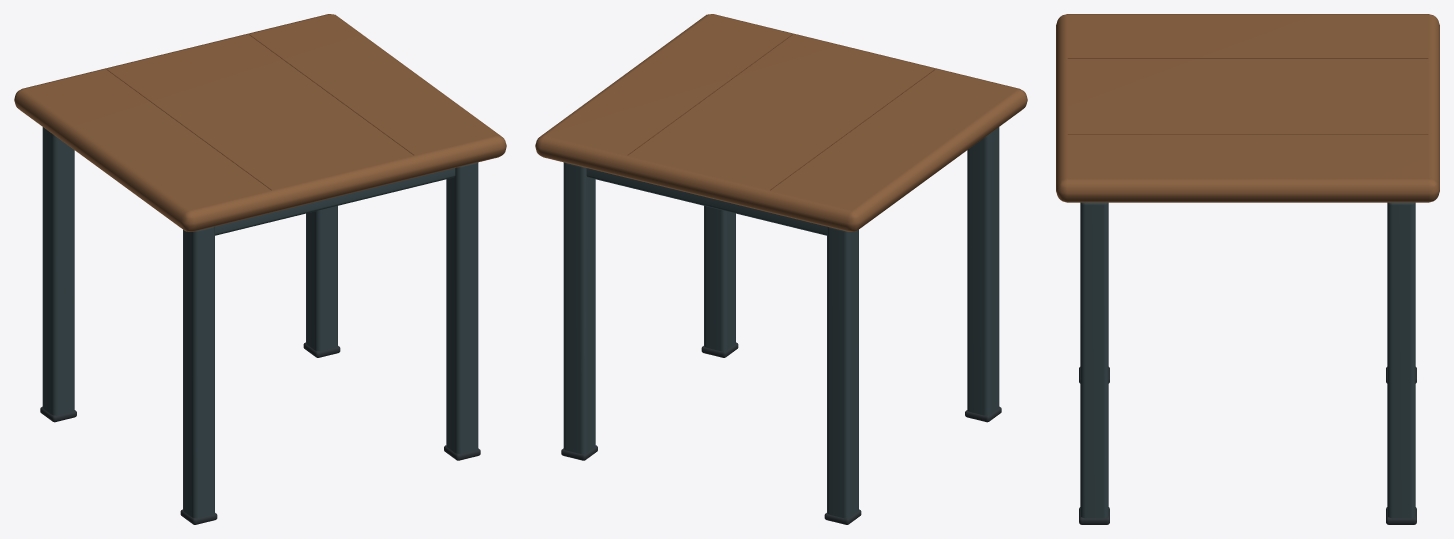
File: HotelTogether-DiningTable2.glb
3 views of the same model, side by side, from view 1: azimuth 30°, elevation 25°; view 2: azimuth 150°, elevation 25°; view 3: azimuth 270°, elevation 25° (orthographic). The views are drawn at different scales.
Visible parts, largest first — view 1: Table_WoodTop.001, Table_MetalLeg.006, Table_MetalLeg.004, Table_MetalLeg.005, Table_MetalLeg.007, Table_SideApron.002; view 2: Table_WoodTop.001, Table_MetalLeg.007, Table_MetalLeg.005, Table_MetalLeg.004, Table_MetalLeg.006, Table_SideApron.003; view 3: Table_WoodTop.001, Table_MetalLeg.006, Table_MetalLeg.007.
Part boxes in pixels (x1,y1,x2,y2): Table_WoodTop.001: (14,14,506,231); Table_MetalLeg.006: (446,162,478,453); Table_MetalLeg.004: (183,226,214,518); Table_MetalLeg.005: (42,127,74,415); Table_MetalLeg.007: (306,206,337,351); Table_SideApron.002: (215,168,455,235); Table_WoodTop.001: (535,14,1027,231); Table_MetalLeg.007: (563,162,595,453); Table_MetalLeg.005: (827,226,858,518); Table_MetalLeg.004: (967,127,999,415); Table_MetalLeg.006: (704,206,735,351); Table_SideApron.003: (586,168,826,235); Table_WoodTop.001: (1056,14,1439,202); Table_MetalLeg.006: (1080,202,1108,518); Table_MetalLeg.007: (1387,202,1415,518).
Size of the model in its own units: 0.8 by 0.7605 by 0.75.
